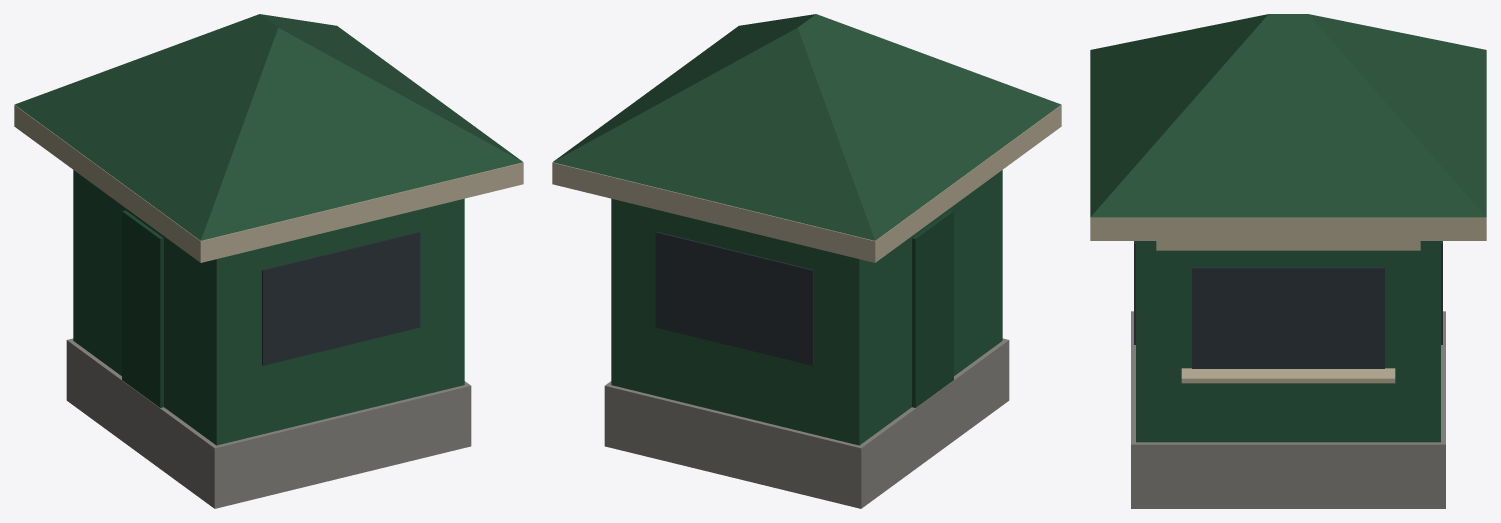
Rendered from SM_Prop_cafe_building_1_LOD2.glb.
3 renders of one model, left to right at view 1: azimuth 30°, elevation 25°; view 2: azimuth 150°, elevation 25°; view 3: azimuth 270°, elevation 25°, orthographic. The views are drawn at different scales.
Visible parts, largest first — view 1: SM_Prop_cafe_building_1_LOD2; view 2: SM_Prop_cafe_building_1_LOD2; view 3: SM_Prop_cafe_building_1_LOD2.
Part boxes in pixels (box(x1,y1,x2,y2)): SM_Prop_cafe_building_1_LOD2: box(14, 14, 523, 508); SM_Prop_cafe_building_1_LOD2: box(552, 14, 1061, 508); SM_Prop_cafe_building_1_LOD2: box(1090, 14, 1486, 508).
Bounding box in the file's own units: 3.9 × 4.65 × 3.9.
